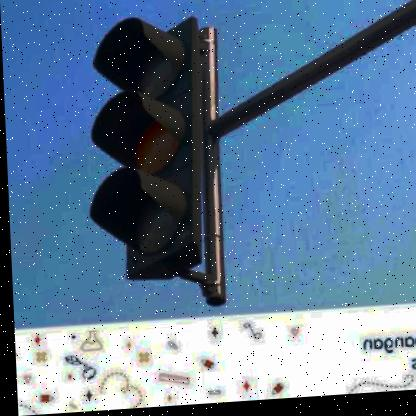Traffic Light -Yellow-: (85, 17, 205, 287)
